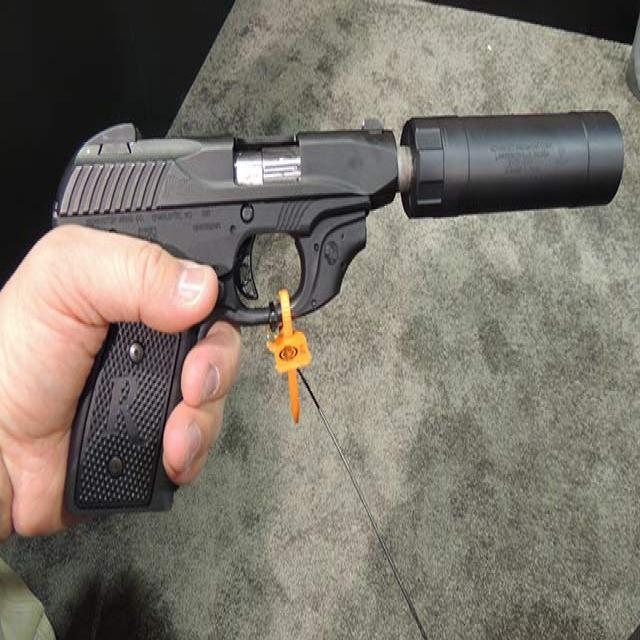gun: (42, 116, 408, 512)
